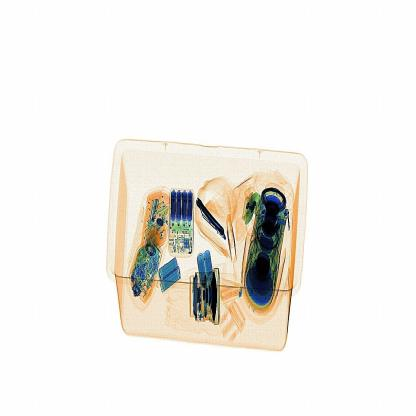knife: (198, 198, 226, 238)
